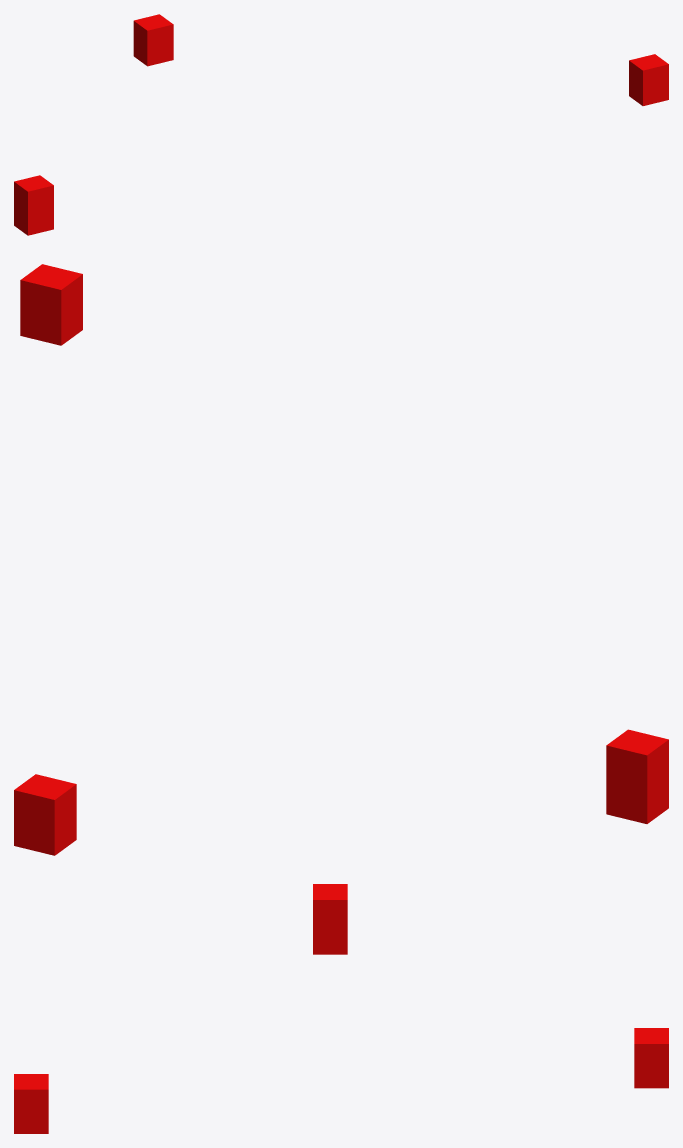
File: BD_消防栓底板.fbx
3 renders of one model, top to bottom at view 1: azimuth 30°, elevation 25°; view 2: azimuth 150°, elevation 25°; view 3: azimuth 270°, elevation 25°, orthographic. The views are drawn at different scales.
Visible parts, largest first — view 1: BD_消防栓底板; view 2: BD_消防栓底板; view 3: BD_消防栓底板.
Part boxes in pixels (<box>): BD_消防栓底板: <box>14,14,668,235</box>; BD_消防栓底板: <box>14,264,668,855</box>; BD_消防栓底板: <box>14,884,668,1133</box>.
Size of the model in its own units: 2149 by 523 by 1885.
